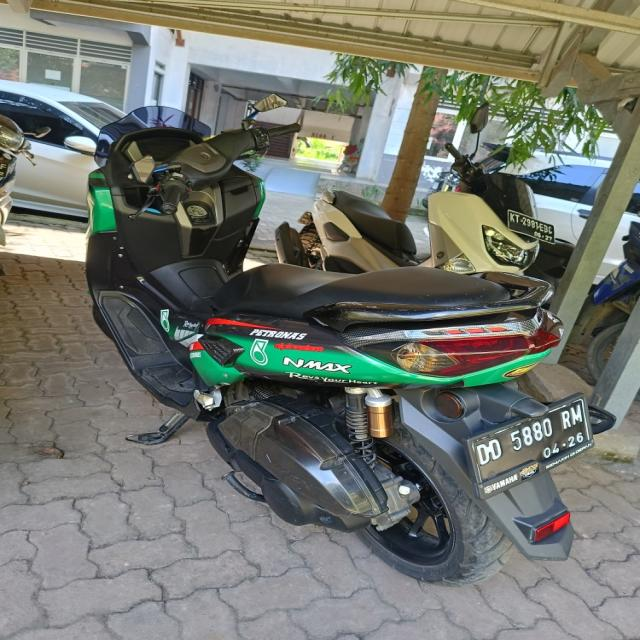plates: (467, 398, 604, 480)
